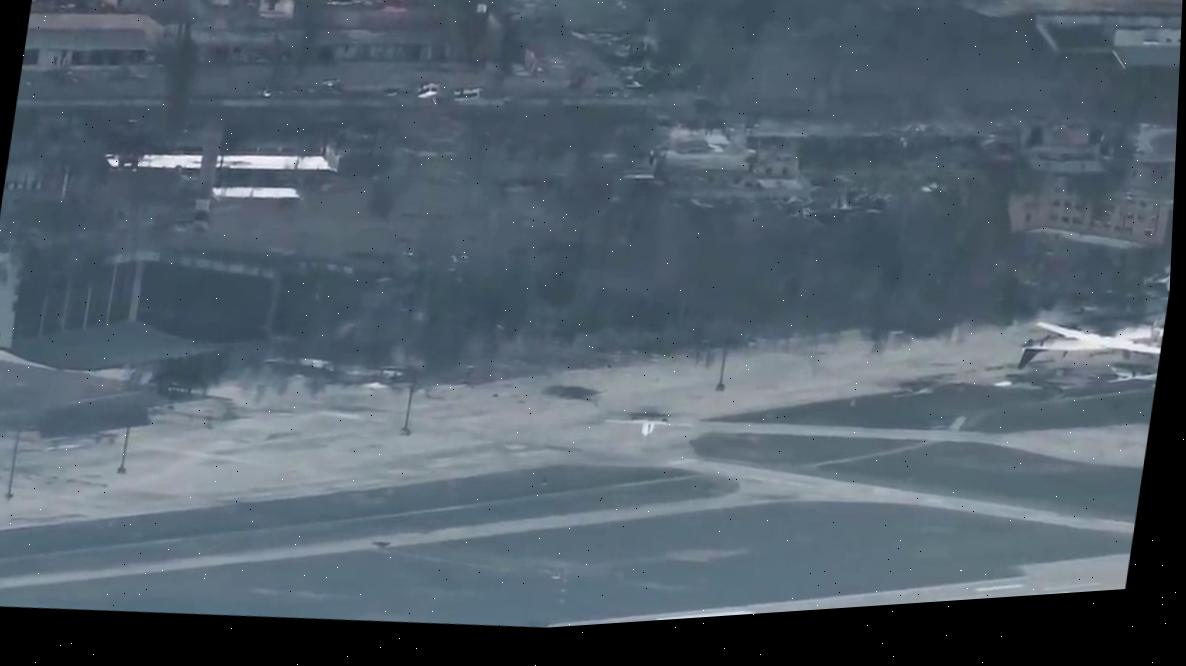plane: (1030, 304, 1166, 363), (601, 407, 696, 444), (1103, 362, 1158, 399)
